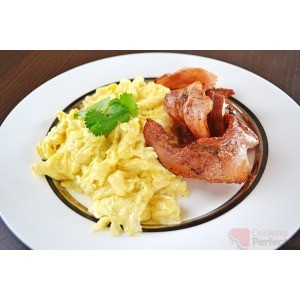egg_brain food: (49, 93, 153, 220)
